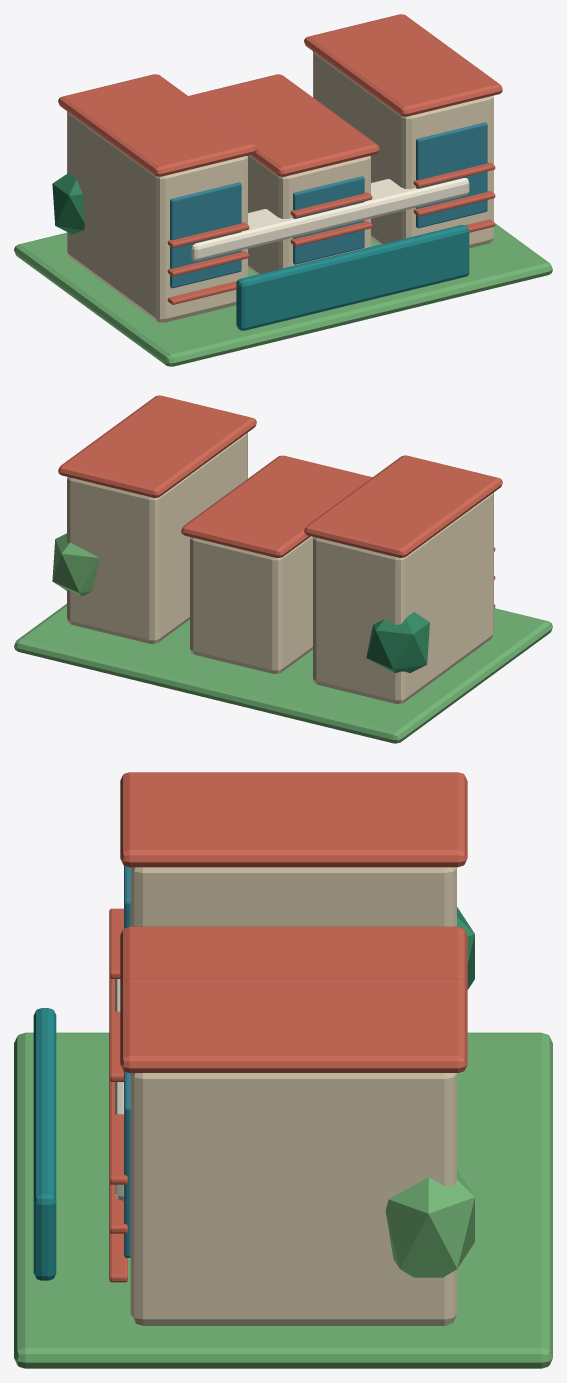
File: ntu-v2.glb
3 renders of one model, top to bottom at view 1: azimuth 30°, elevation 25°; view 2: azimuth 150°, elevation 25°; view 3: azimuth 270°, elevation 25°, orthographic. The views are drawn at different scales.
Parts seen in each view (by area): view 1: NTU CAMPUS · Chalk; view 2: NTU CAMPUS · Chalk; view 3: NTU CAMPUS · Chalk.
Part boxes in pixels (<box>): NTU CAMPUS · Chalk: <box>14,14,552,366</box>; NTU CAMPUS · Chalk: <box>14,395,552,743</box>; NTU CAMPUS · Chalk: <box>14,772,552,1368</box>.
Size of the model in its own units: 7.4 by 3.16 by 5.2.
1 material, 1 textured.
